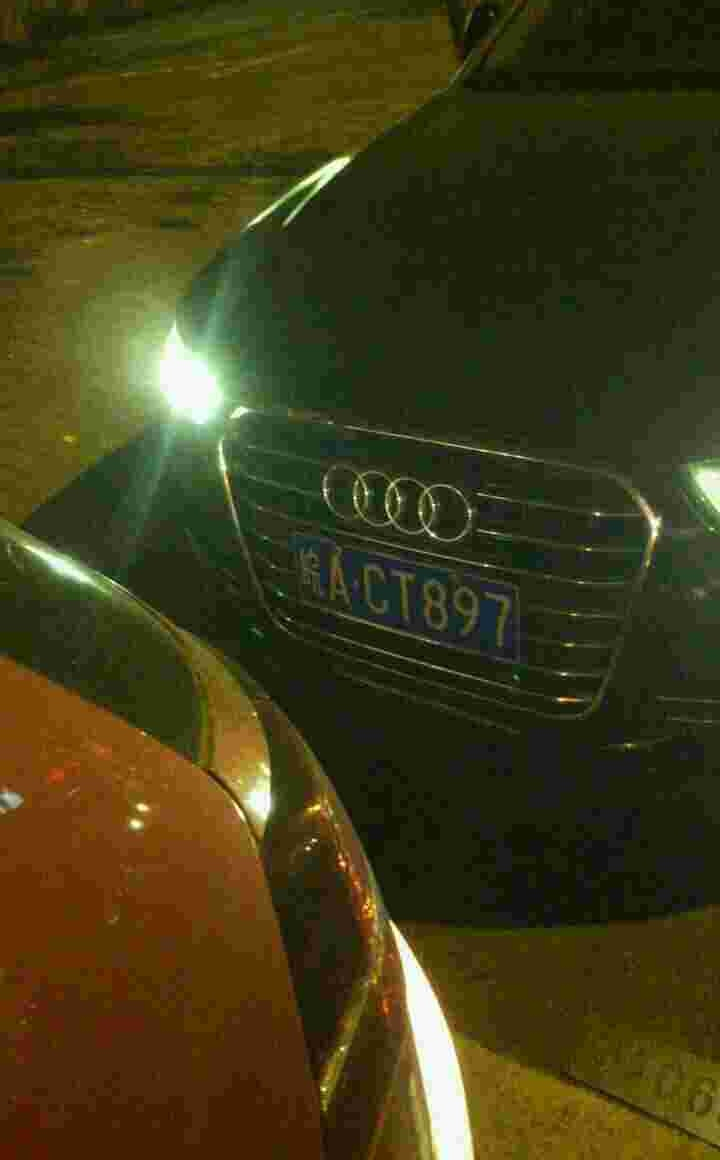license_plate: (282, 536, 521, 641)
